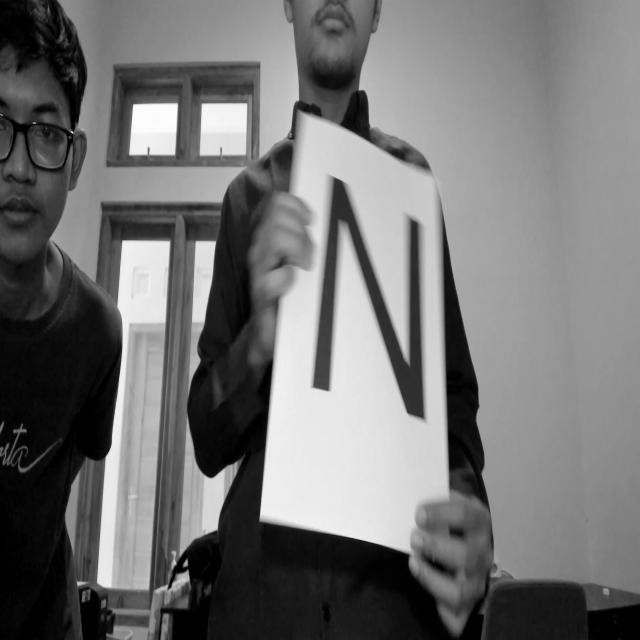n: (306, 163, 434, 434)
